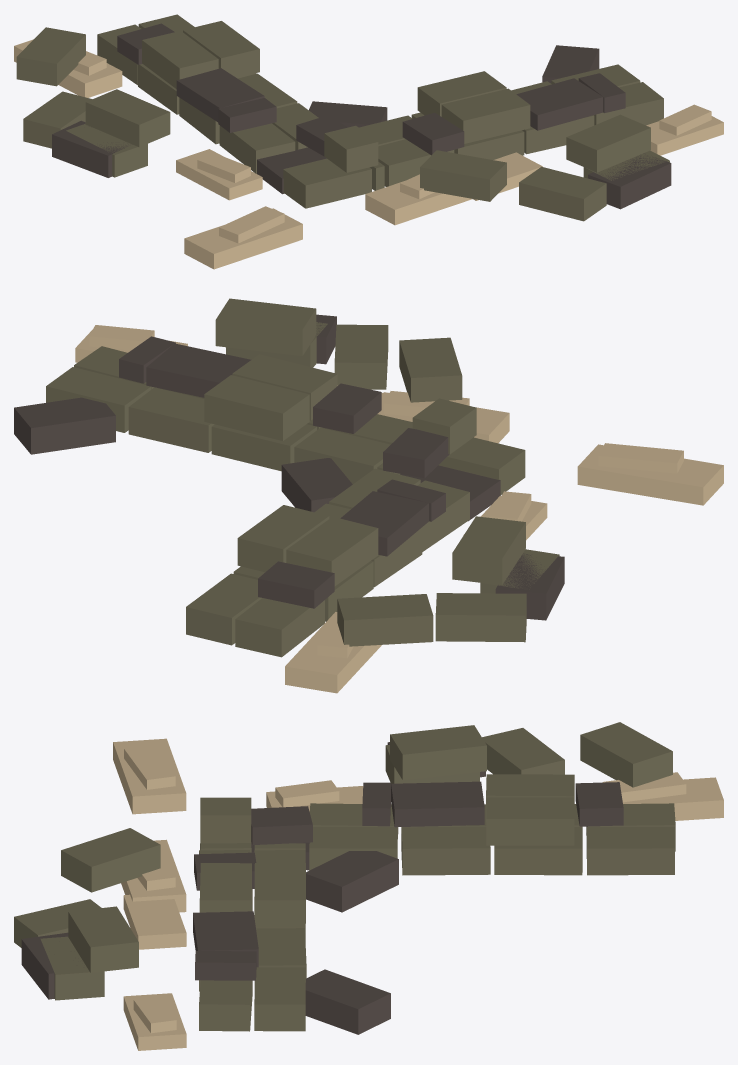
Rendered from SM_SacosEsquina_v1_Talud_e2_MuyDanado_LOD0.fbx.
The picture shows the model from 3 angles, top to bottom: view 1: azimuth 30°, elevation 25°; view 2: azimuth 150°, elevation 25°; view 3: azimuth 270°, elevation 25°; orthographic projection. The views are drawn at different scales.
Parts seen in each view (by area): view 1: SM_sacos_piezas_v6_LOD0; view 2: SM_sacos_piezas_v6_LOD0; view 3: SM_sacos_piezas_v6_LOD0.
Part boxes in pixels (x1,y1,x2,y2): SM_sacos_piezas_v6_LOD0: (14,14,723,269); SM_sacos_piezas_v6_LOD0: (14,298,723,693); SM_sacos_piezas_v6_LOD0: (14,722,723,1050).
Size of the model in its own units: 6.48 by 0.585 by 6.53.
